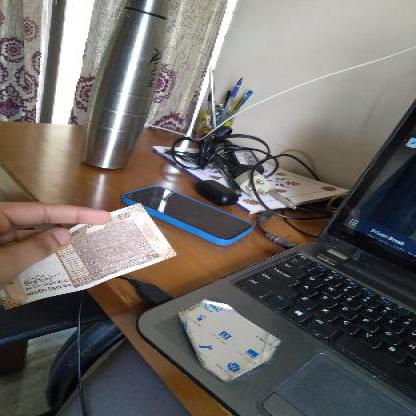New10Back: (0, 204, 184, 286)
